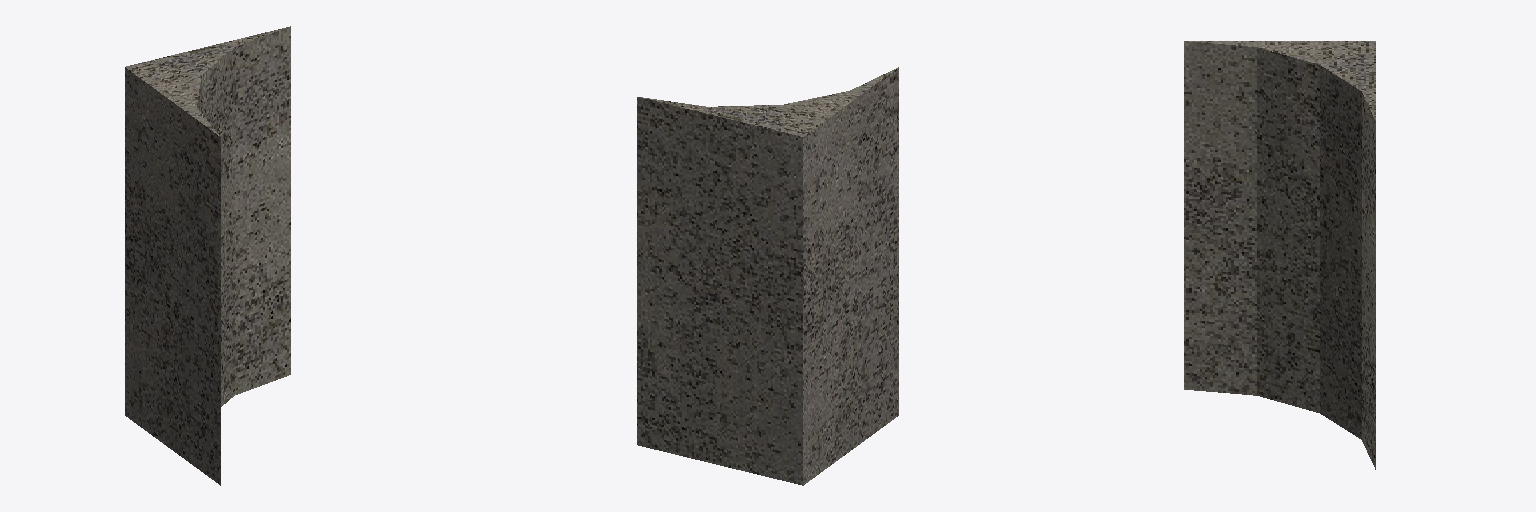
3 views of the same model, side by side, from view 1: azimuth 30°, elevation 25°; view 2: azimuth 150°, elevation 25°; view 3: azimuth 270°, elevation 25° (orthographic).
Size of the model in its own units: 1 by 2 by 1.
Materials: 1 (1 with a texture image).